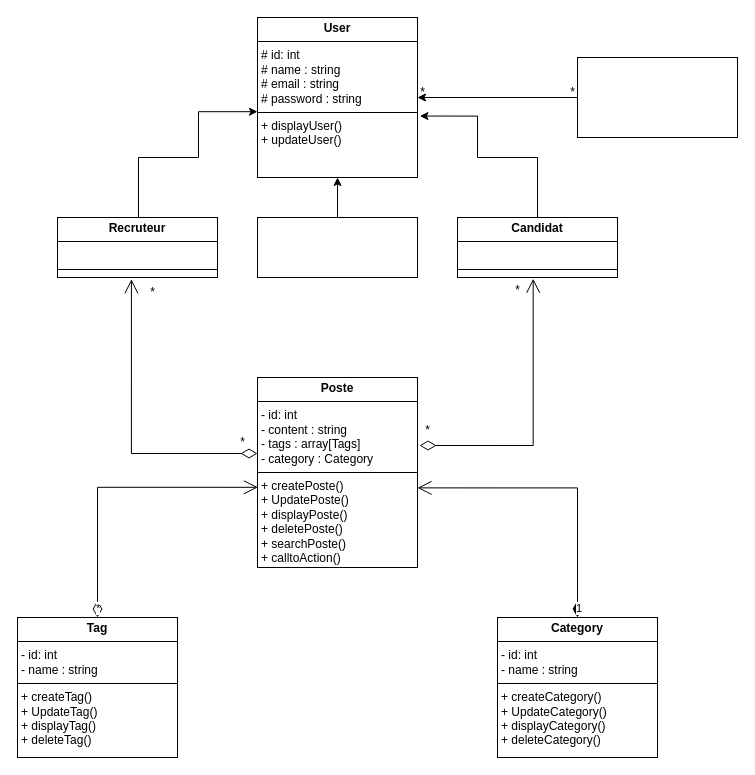
The diagram is 755 pixels wide and 775 high, and some of its shapes have lost their labels. The shapes that lost their labels are listed below. From the top down, each one's box as (x1, y1, x2, y2) in pixels, then its label:
(576, 56, 738, 138): Role - id: int - name : string
(256, 216, 418, 278): Admin
